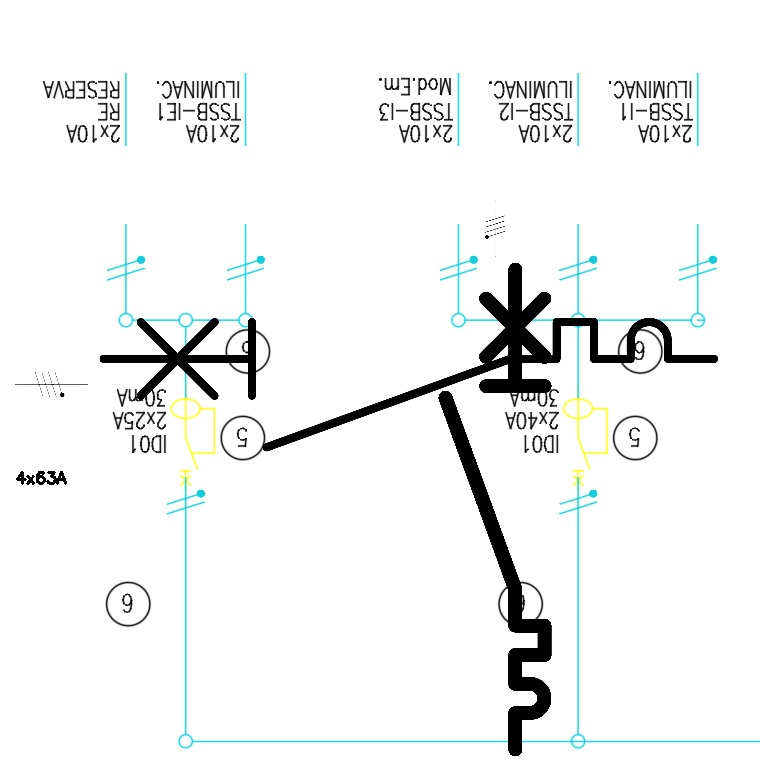interruptor_termomagnetico: (87, 306, 730, 463), (433, 257, 557, 762)
